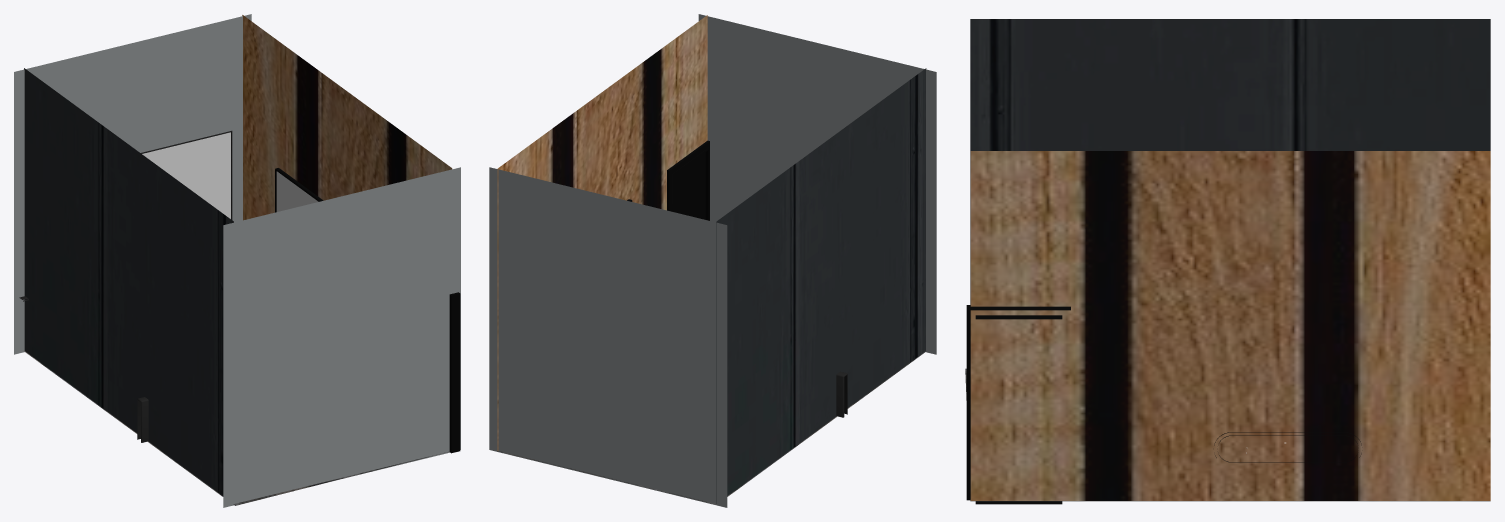
File: UpdatedRoom.fbx
The picture shows the model from 3 angles, left to right: view 1: azimuth 30°, elevation 25°; view 2: azimuth 150°, elevation 25°; view 3: azimuth 270°, elevation 25°; orthographic projection. The views are drawn at different scales.
Parts seen in each view (by area): view 1: Plane.005, Plane.002, Plane.004, Plane.003, Right Wall Picture, Door_low.002, Tv Screen, Plane, Couch; view 2: Plane.004, Plane.002, Plane.005, Plane.003, Door_low.002, Plane, Couch; view 3: Plane.003, Plane.002, Door_low.002.
Boxes of the visible parts, bbox=[...] form: Plane.005: bbox=[223, 167, 460, 507]; Plane.002: bbox=[24, 68, 233, 495]; Plane.004: bbox=[14, 14, 251, 354]; Plane.003: bbox=[242, 15, 452, 220]; Right Wall Picture: bbox=[142, 132, 230, 218]; Door_low.002: bbox=[449, 292, 460, 453]; Tv Screen: bbox=[276, 171, 318, 211]; Plane: bbox=[24, 351, 448, 505]; Couch: bbox=[19, 296, 148, 442]; Plane.004: bbox=[489, 167, 727, 507]; Plane.002: bbox=[716, 68, 926, 503]; Plane.005: bbox=[698, 14, 936, 354]; Plane.003: bbox=[497, 15, 707, 450]; Door_low.002: bbox=[667, 140, 709, 220]; Plane: bbox=[498, 351, 926, 504]; Couch: bbox=[836, 371, 847, 417]; Plane.003: bbox=[970, 151, 1490, 500]; Plane.002: bbox=[970, 19, 1490, 304]; Door_low.002: bbox=[966, 305, 1070, 504].
Bounding box in the file's own units: 550 × 628 × 850.
Materials: 29 (10 with a texture image).
